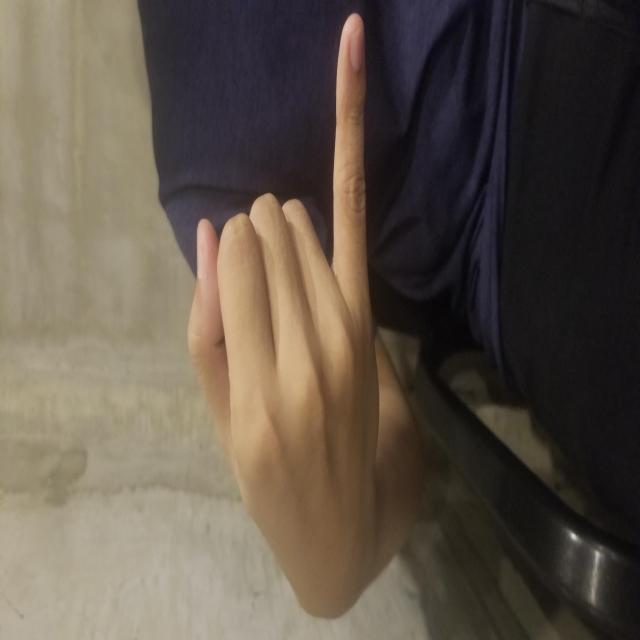J: (76, 188, 630, 372)
